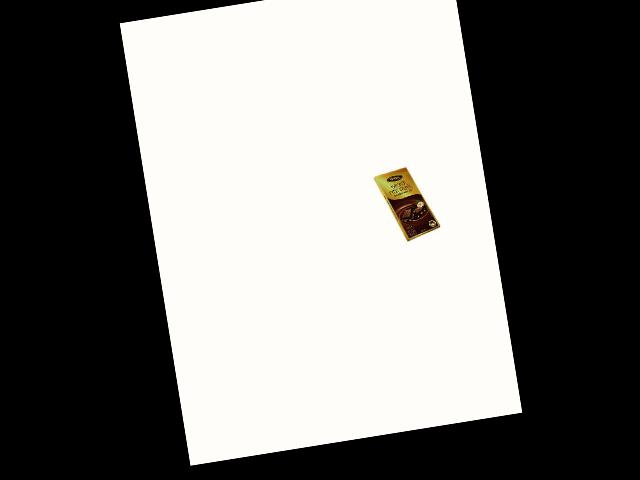chocolate: (370, 163, 442, 252)
